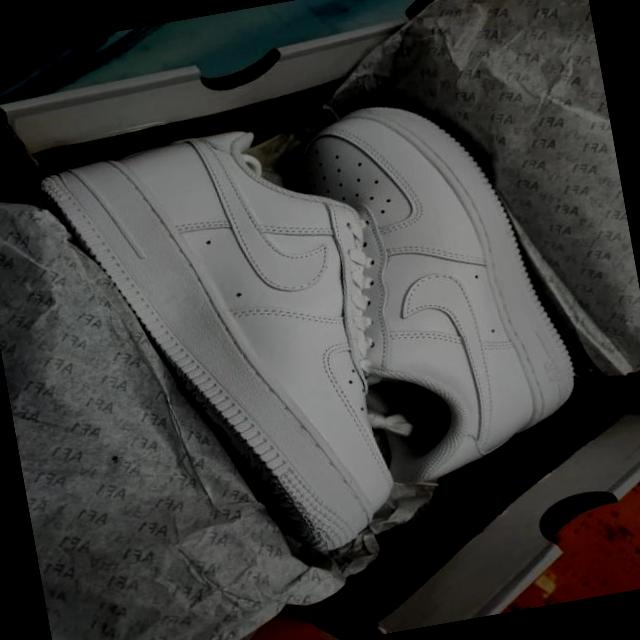nike_original_airforce: (28, 106, 426, 596), (287, 79, 592, 496)
